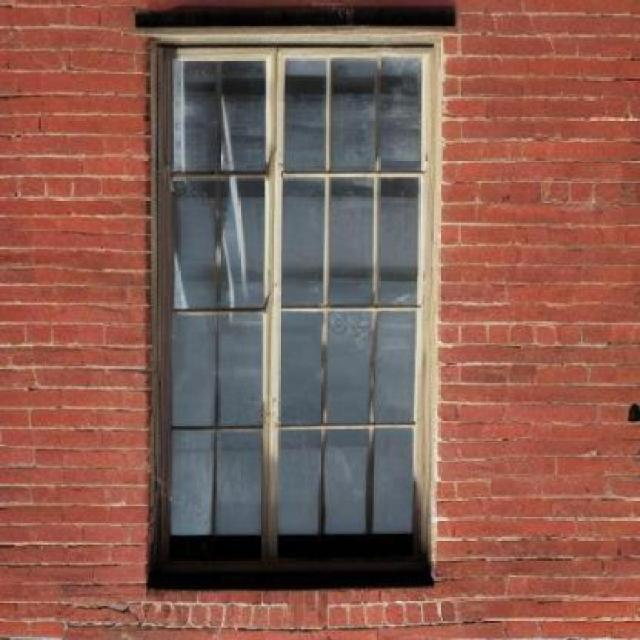window: (146, 47, 437, 595)
